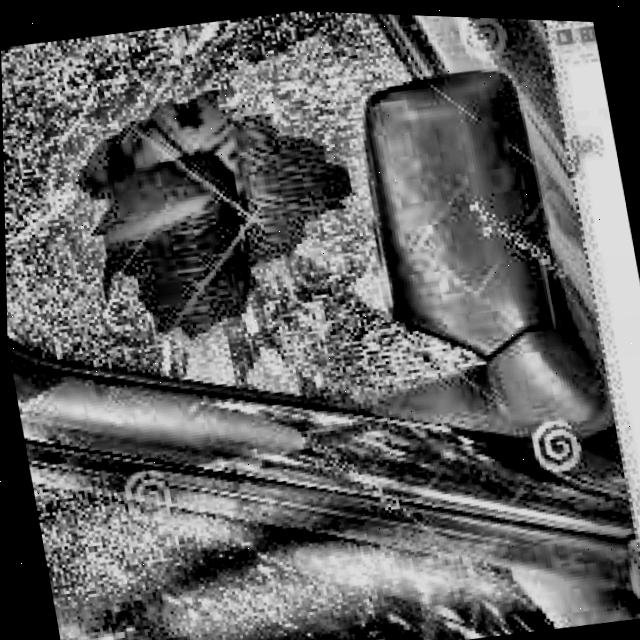glass_shatter: (12, 19, 384, 372)
